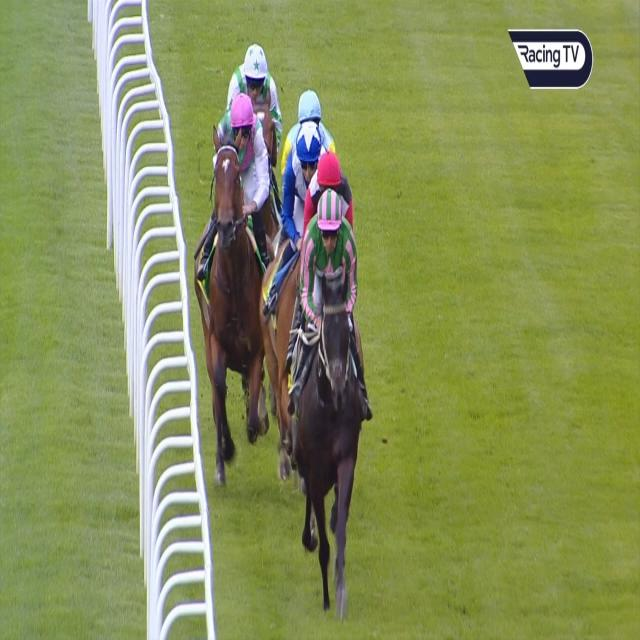horses-racing: (296, 204, 366, 609), (191, 91, 265, 459), (223, 30, 291, 162), (282, 123, 336, 208), (306, 153, 353, 220), (290, 85, 329, 137)
